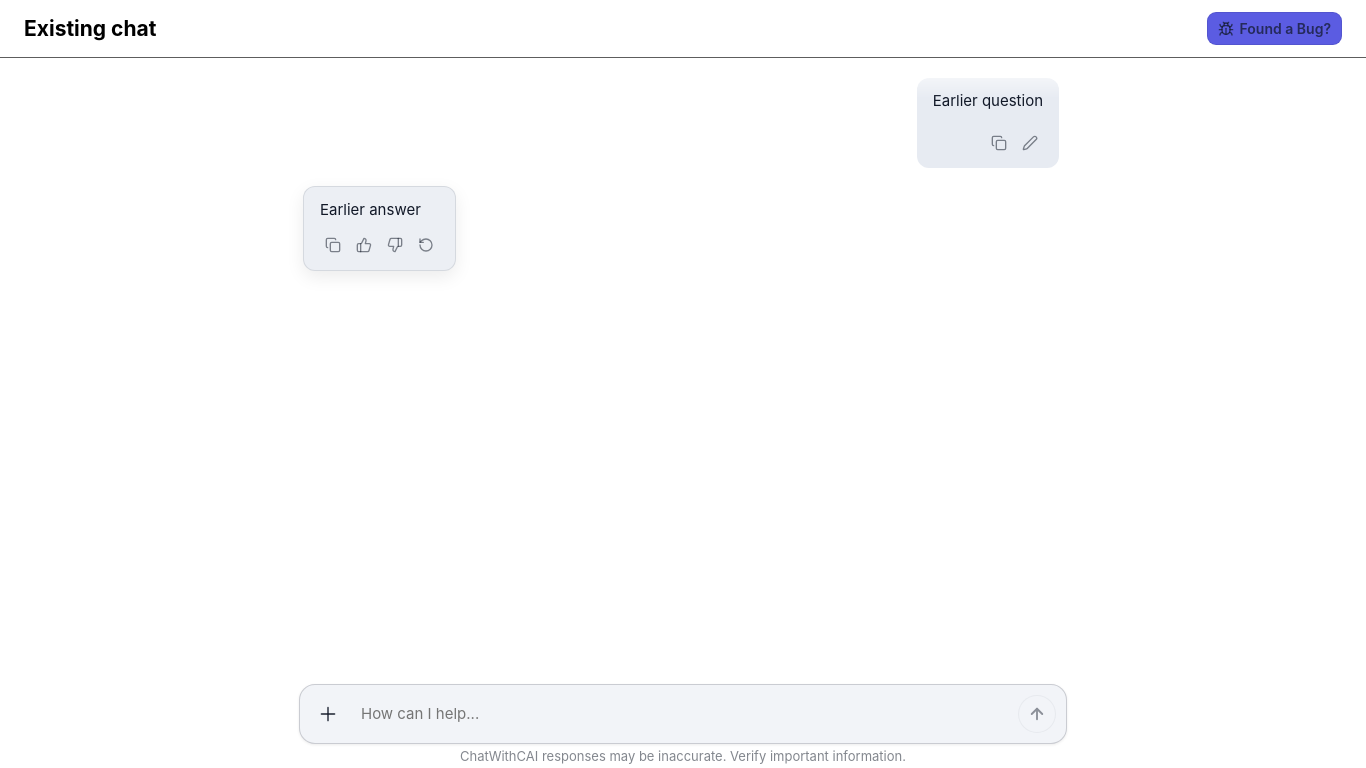
Test: chat message sending › links an edited user message to the previous user message
Expected: the text "Earlier answer" is shown, [320,200,421,218]
Click the 2nd button "Edit".
click(1030, 142)  # box [1017,130,1043,156]
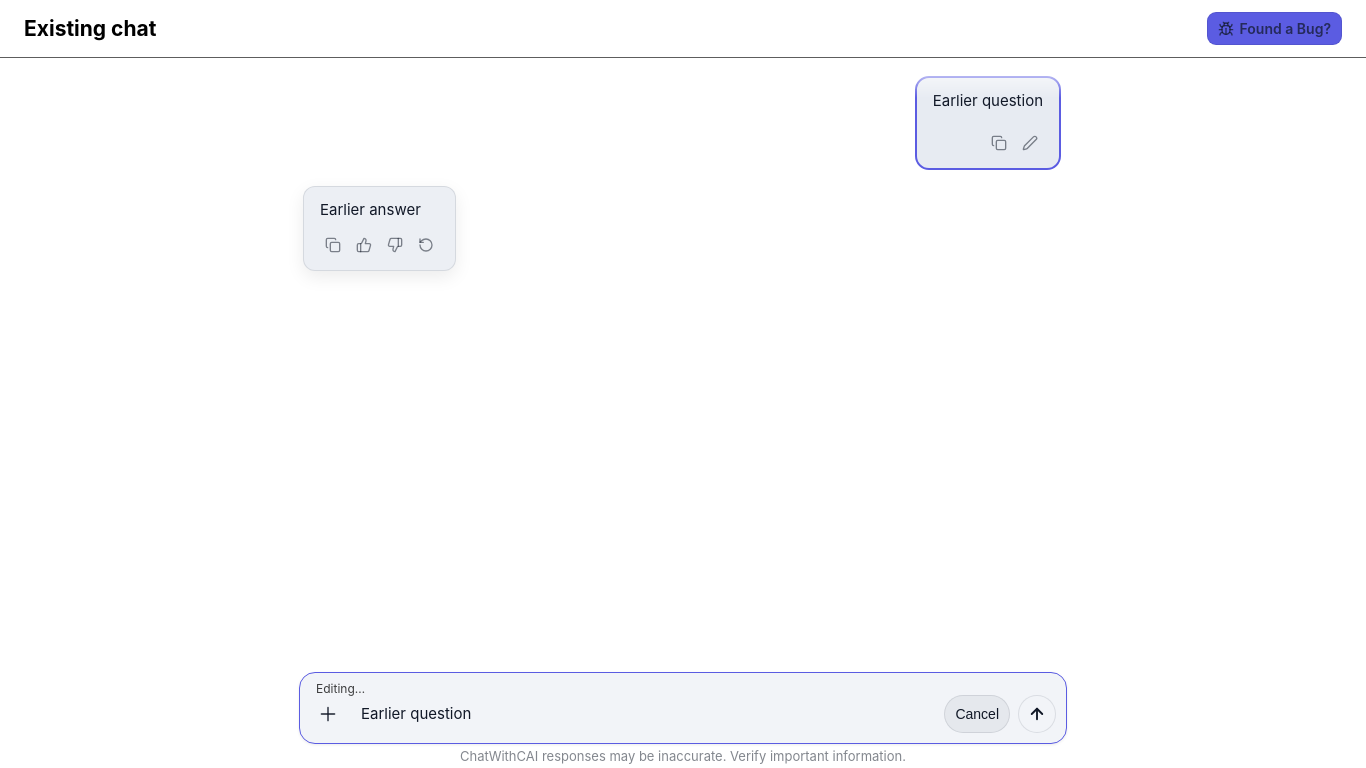
Replace the text in the text box with "Edited question" at (641, 714), box [355,704,926,724]
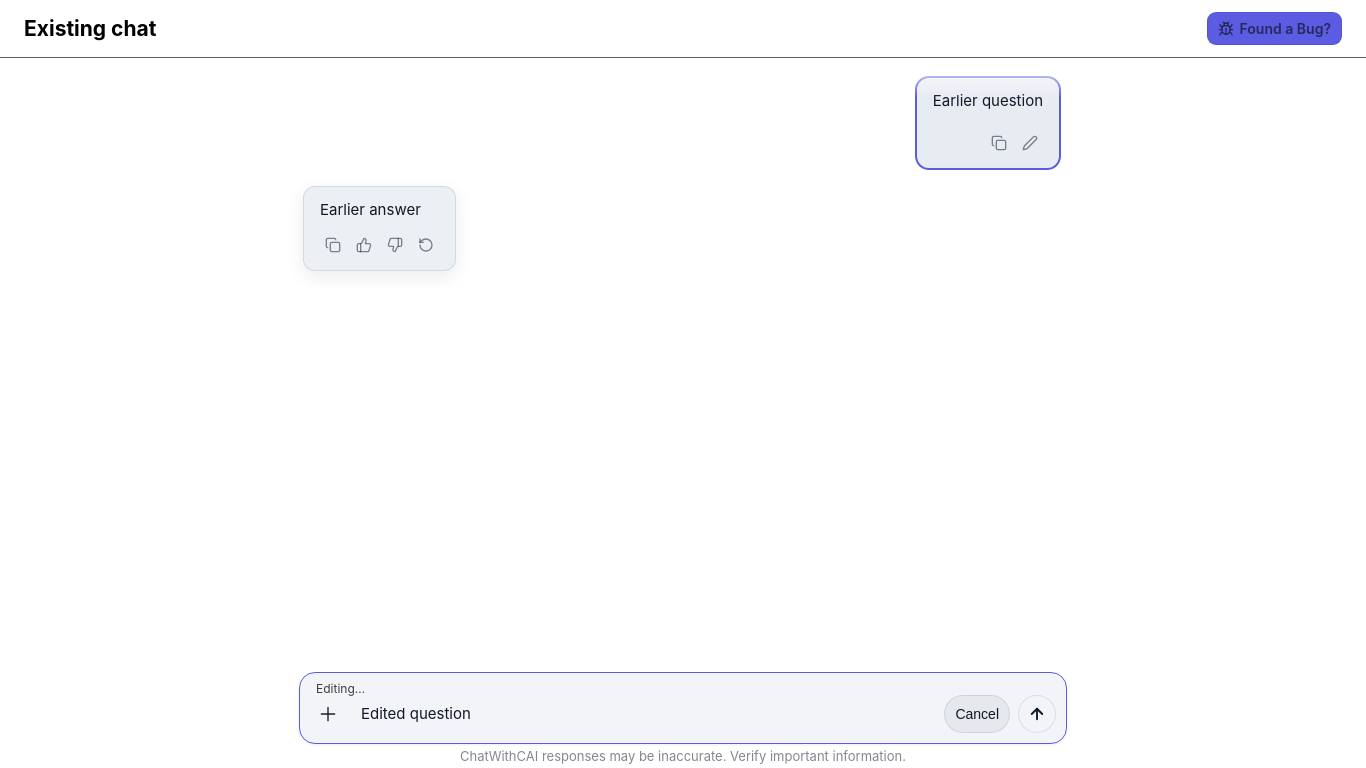
Click the button named "Send message".
click(1037, 714)  # box [1018,695,1056,733]
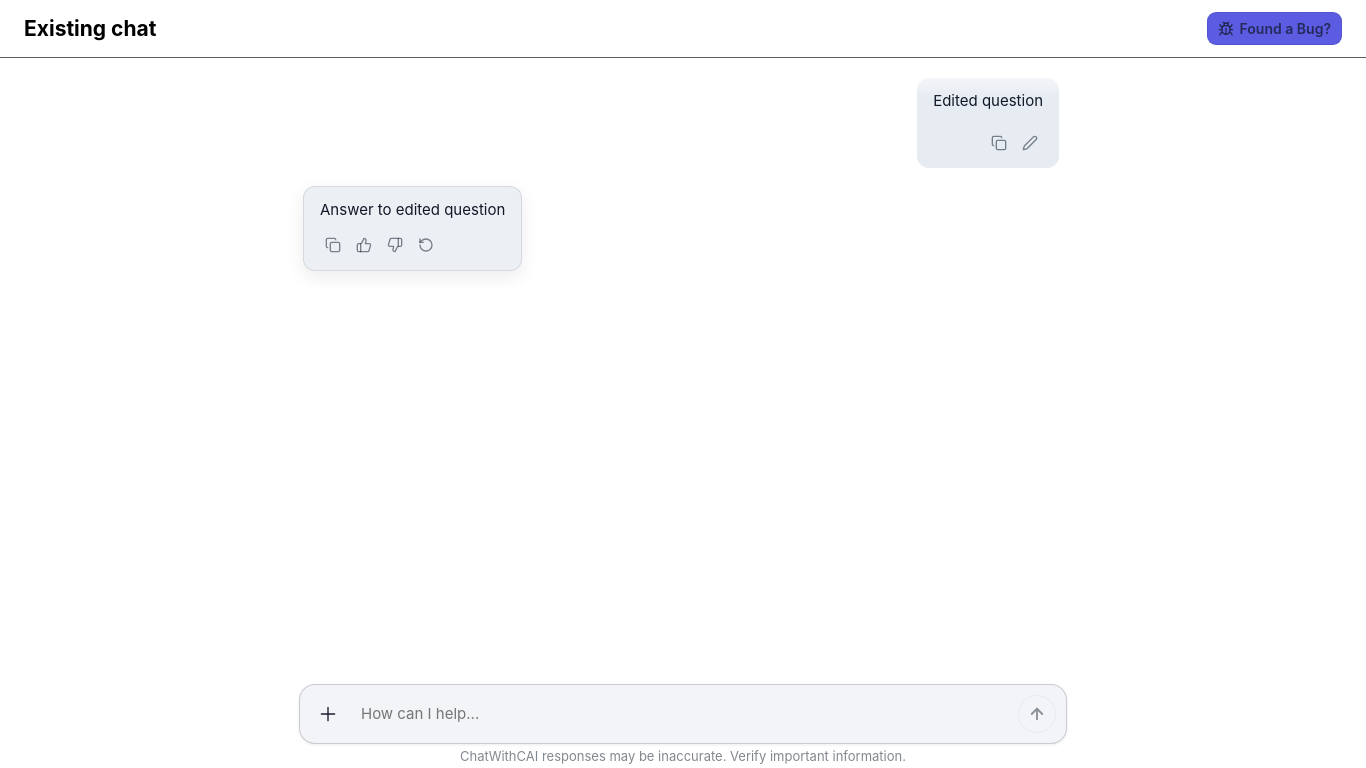
Expected: the text "Edited question" is shown, [933,90,1043,112]
Expected: the text "Answer to edited question" is shown, [320,198,505,221]
